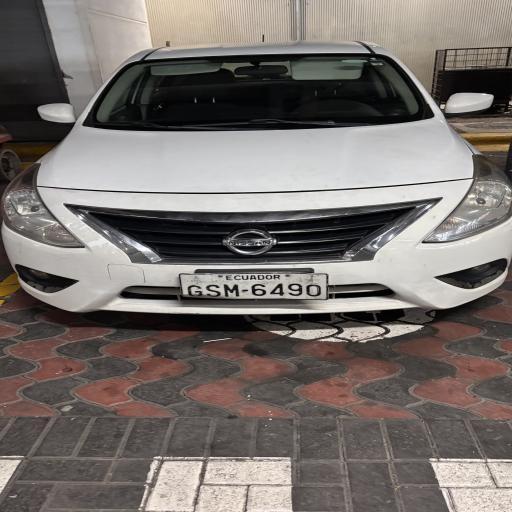license_plate: (180, 272, 328, 300)
